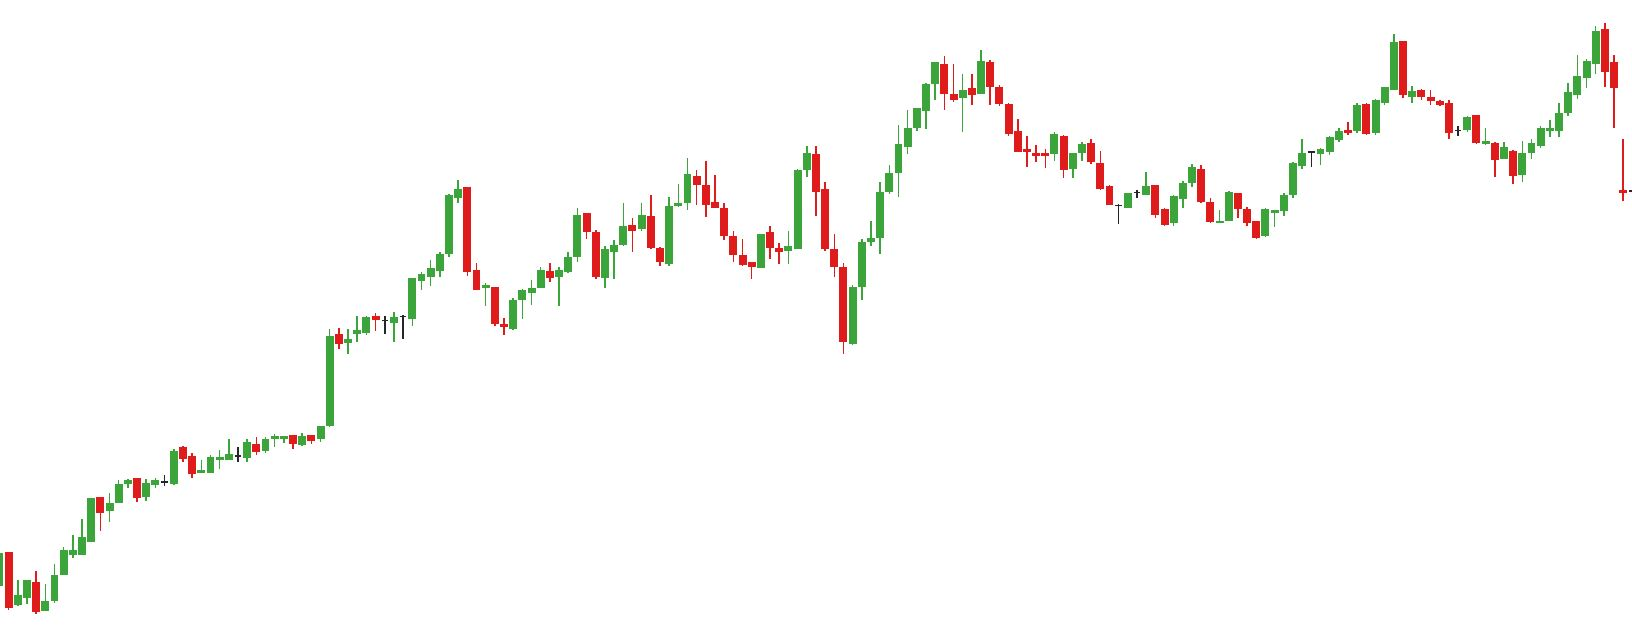buy: (746, 201, 870, 356)
sell: (645, 152, 712, 240), (938, 47, 995, 114)
